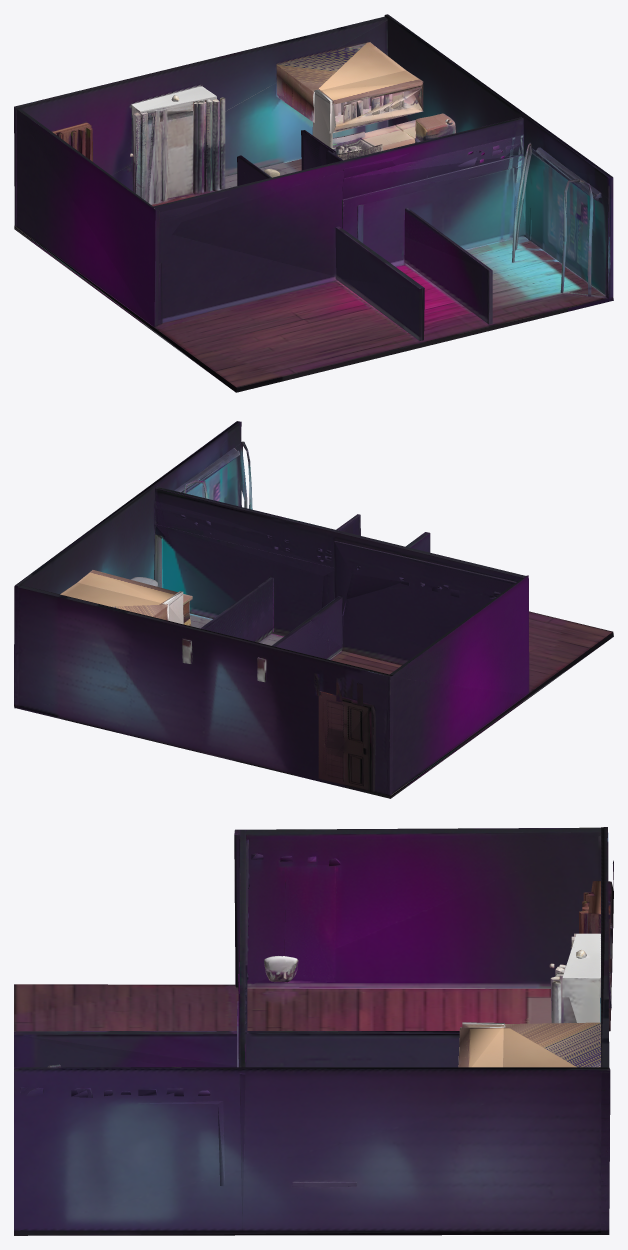
The model's file is CASA-VAZIA.glb.
3 renders of one model, top to bottom at view 1: azimuth 30°, elevation 25°; view 2: azimuth 150°, elevation 25°; view 3: azimuth 270°, elevation 25°, orthographic. The views are drawn at different scales.
Size of the model in its own units: 0.9707 by 0.3047 by 1.
1 material, 1 textured.
